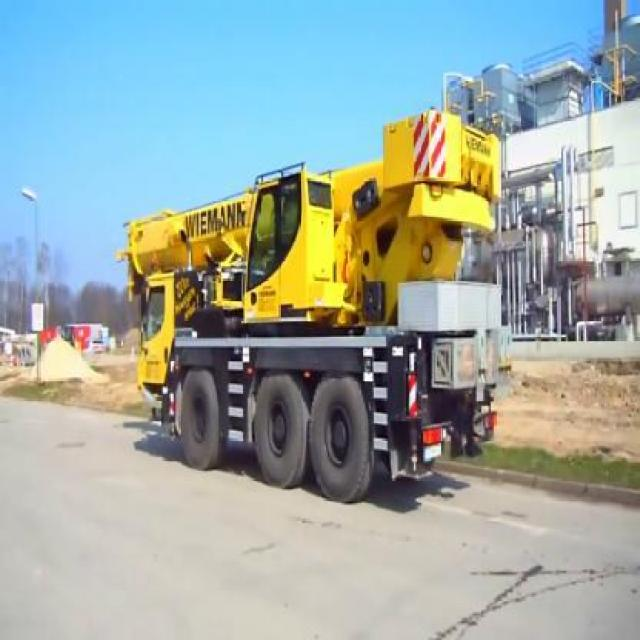Mobile Crane: (119, 112, 496, 498)
